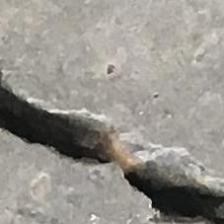Crack: (0, 67, 224, 224)
